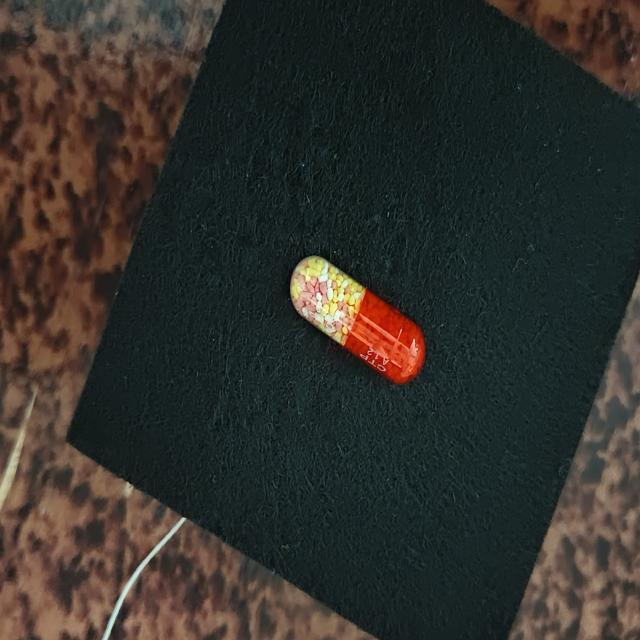Intact Capsule: (290, 255, 426, 385)
